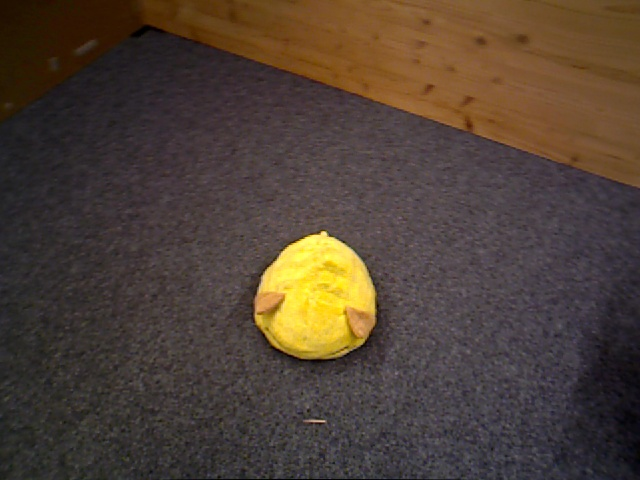grasp: (253, 232, 376, 362)
